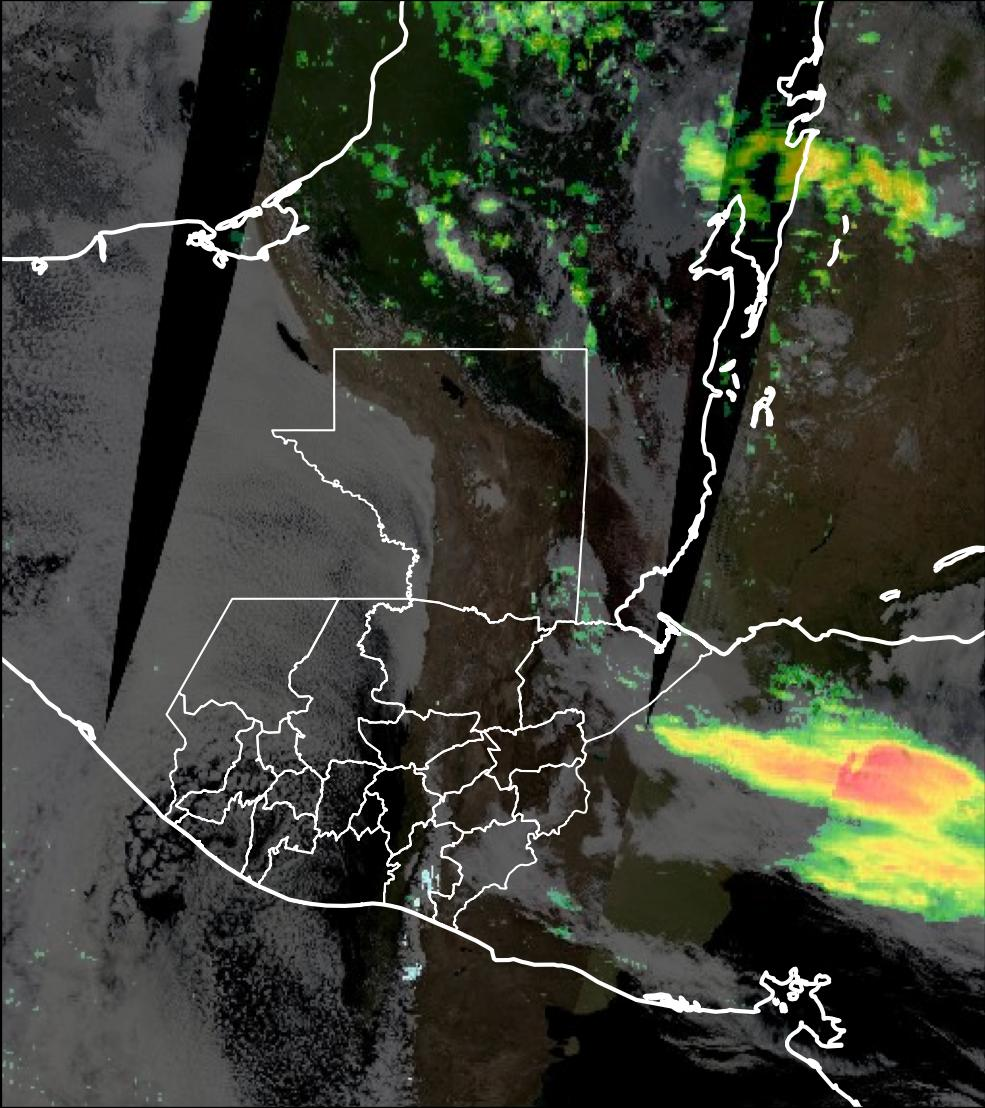precipitacion: (722, 717, 978, 840)
